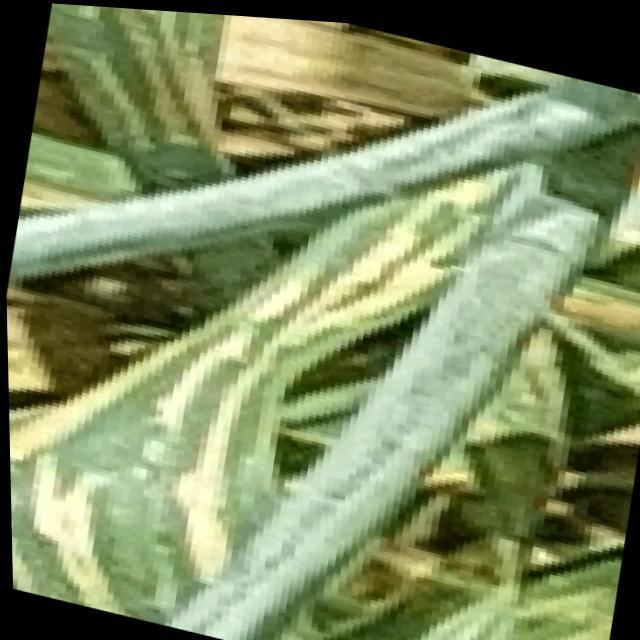Yellow Rust: (7, 170, 523, 627)
